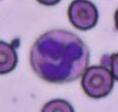N: (31, 29, 89, 82)
